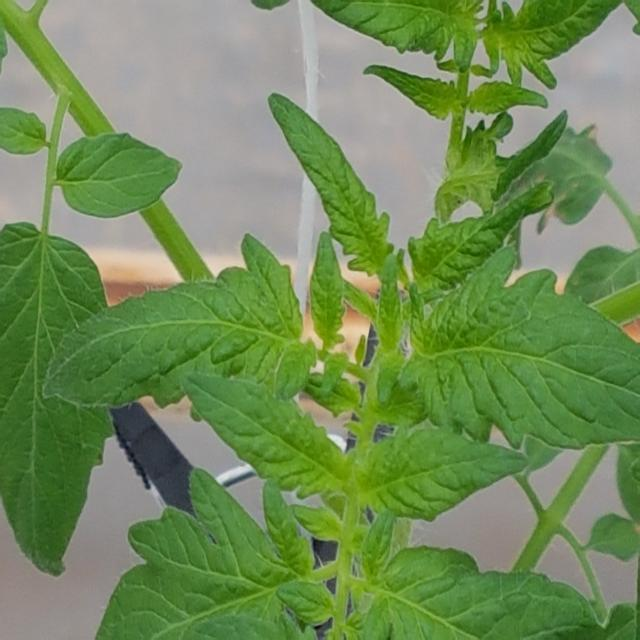Healthy Leaf: (391, 248, 640, 449), (44, 235, 304, 409), (1, 220, 111, 575), (99, 468, 319, 640), (269, 93, 393, 275), (367, 548, 597, 640), (184, 373, 340, 494), (372, 432, 527, 516), (58, 137, 179, 221), (311, 1, 460, 59), (309, 237, 349, 348)
